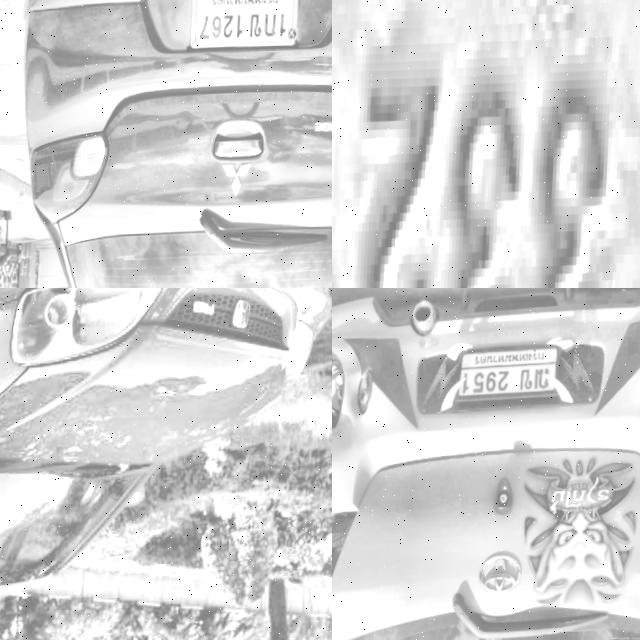license-plate: (332, 0, 640, 288), (453, 341, 562, 401), (188, 0, 303, 54)
